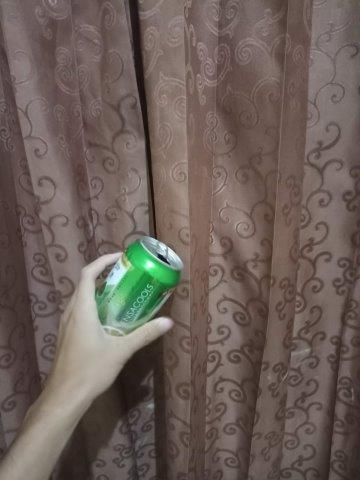kaleng: (96, 236, 184, 336)
